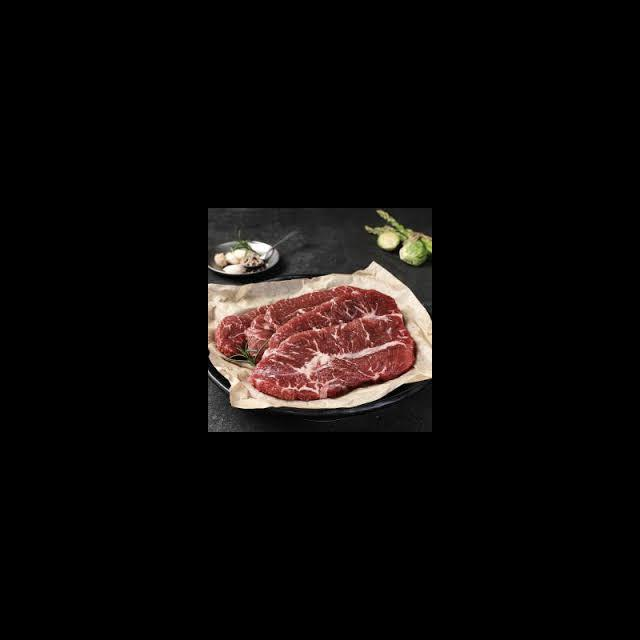beef: (256, 314, 418, 399), (219, 285, 400, 355)
